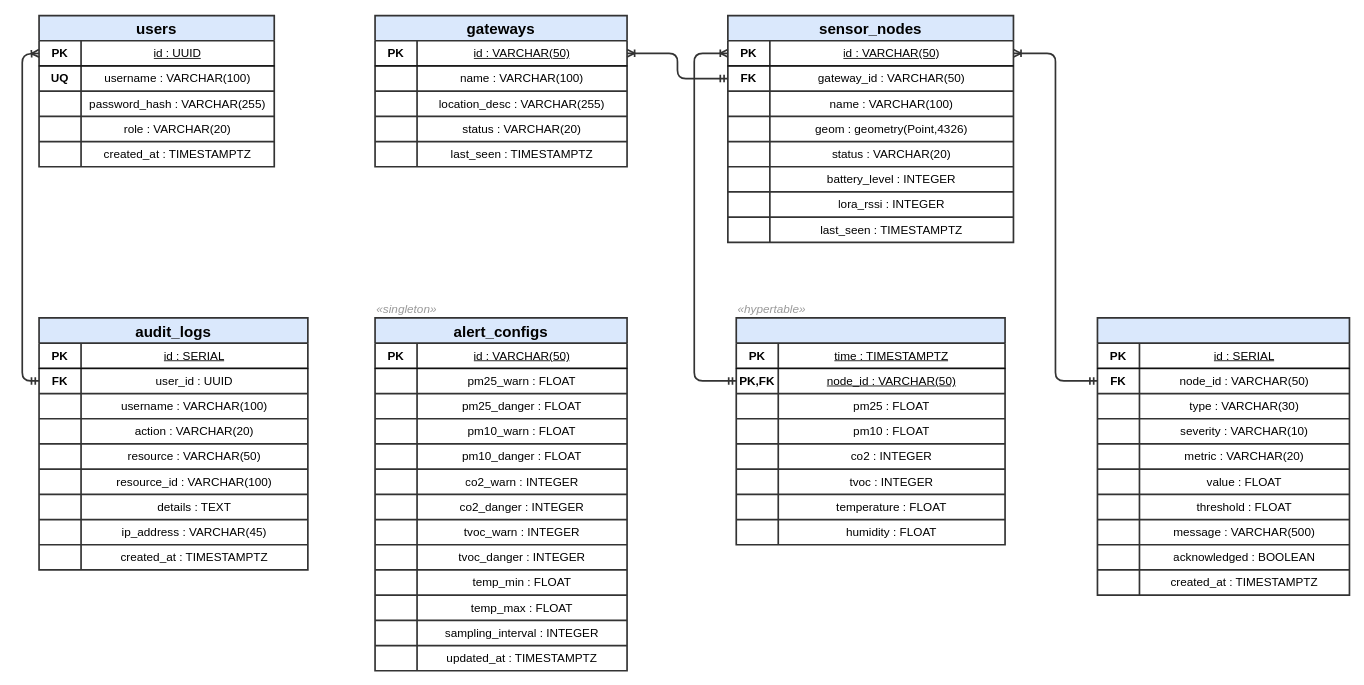
This 1364x685 diagram has some shape labels left out. Here are the shapes that lost their labels. From the top down, the box of each, then its label:
(735, 317, 1005, 545): measurements
(1096, 317, 1350, 596): alerts
